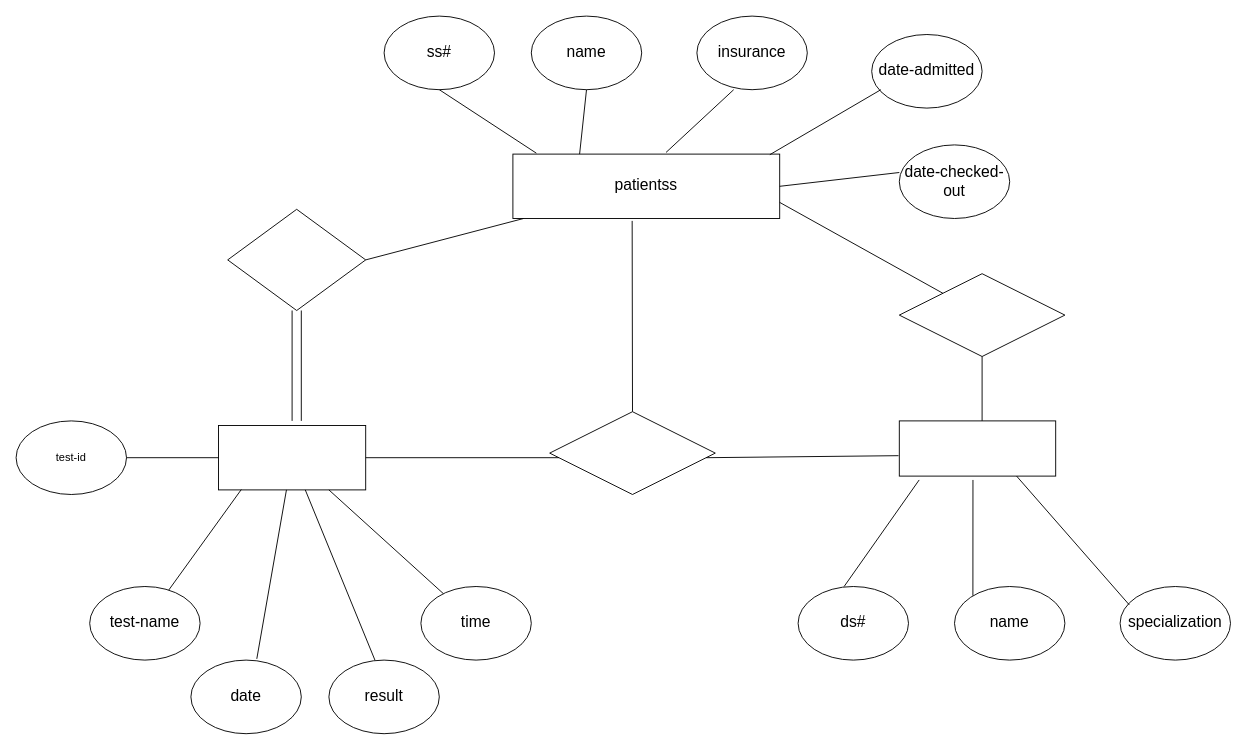
Image size: 1247x750. Some labels were removed from this diagram. The shapes that lost their labels are listed below. From the top down, each one's centre as x and y in pixels, then its label:
At point (296, 259): "test-log".
At point (981, 314): "Dr-patient".
At point (292, 457): "test".
At point (632, 452): "performed by".
At point (977, 448): "doctor".
